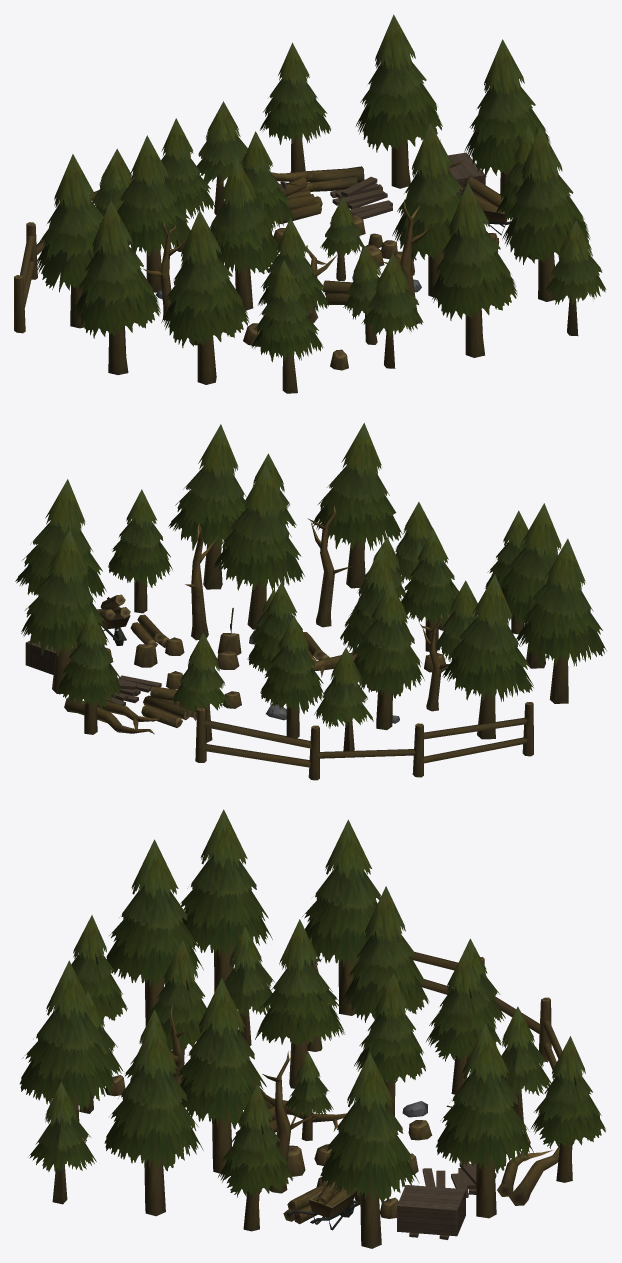
Rendered from WMPine3.FBX.
3 views of the same model, one above another, from view 1: azimuth 30°, elevation 25°; view 2: azimuth 150°, elevation 25°; view 3: azimuth 270°, elevation 25° (orthographic). The views are drawn at different scales.
Visible parts, largest first — view 1: WMPine3; view 2: WMPine3; view 3: WMPine3.
Boxes of the visible parts, x1=… form: WMPine3: x1=14, y1=14, x2=606, y2=393; WMPine3: x1=15, y1=423, x2=606, y2=780; WMPine3: x1=19, y1=809, x2=605, y2=1248.
Bounding box in the file's own units: 2.45 × 0.7674 × 2.13.
Materials: 1 (1 with a texture image).
